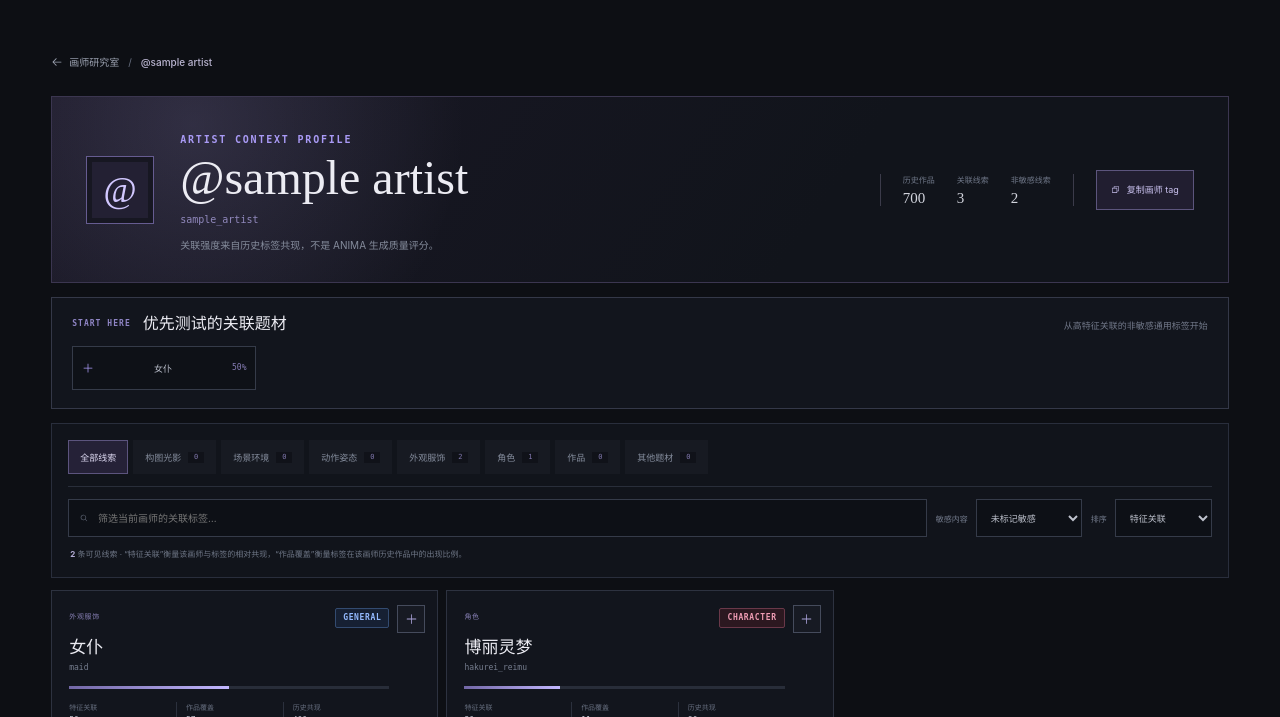
Test case: filters an artist's context clues and adds them to the scene basket
The image size is (1280, 717).
Expected: the heading "@sample artist" is shown, [180,151,468,204]
Expected: the heading "女仆" is shown, [69,638,103,657]
Select "仅显示敏感" in the dropdown named "关联标签敏感内容" at (1029, 518), box [976,499,1082,537]
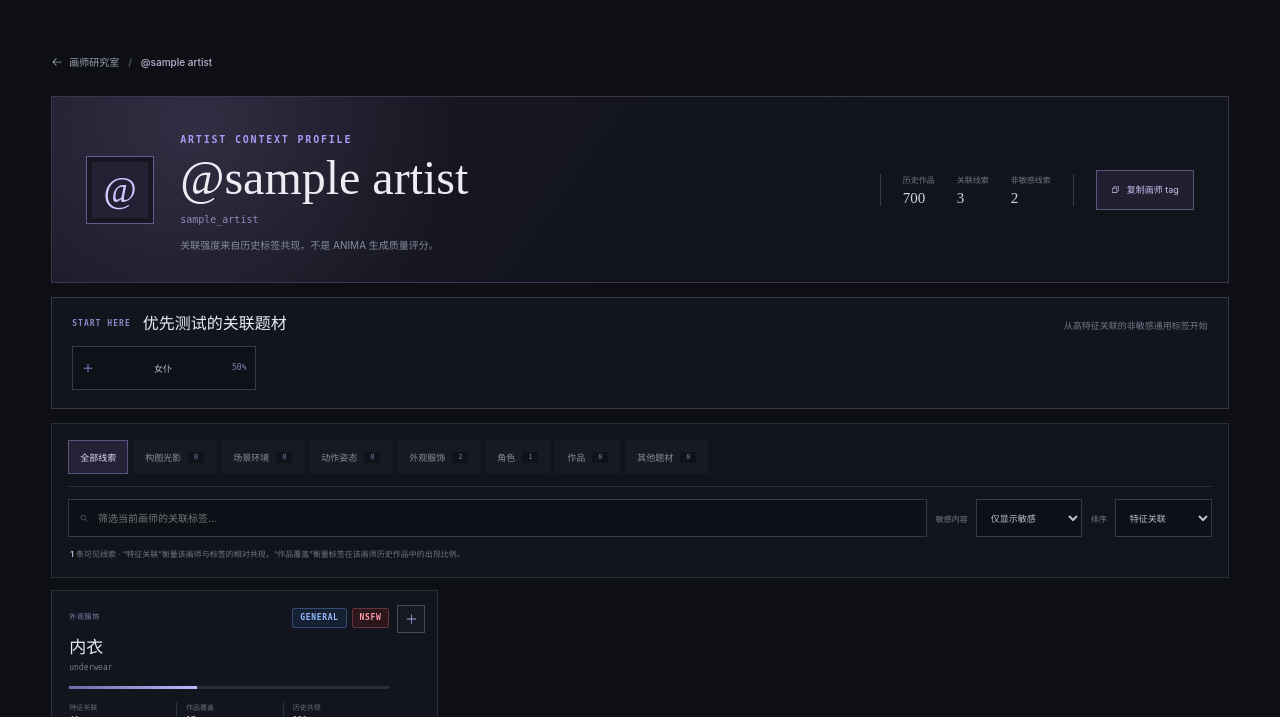
Now the heading "内衣" is shown, box [69,638,103,657]
Click the button named "选择 内衣" at (411, 619), box [397,605,425,633]
(page scrolled)
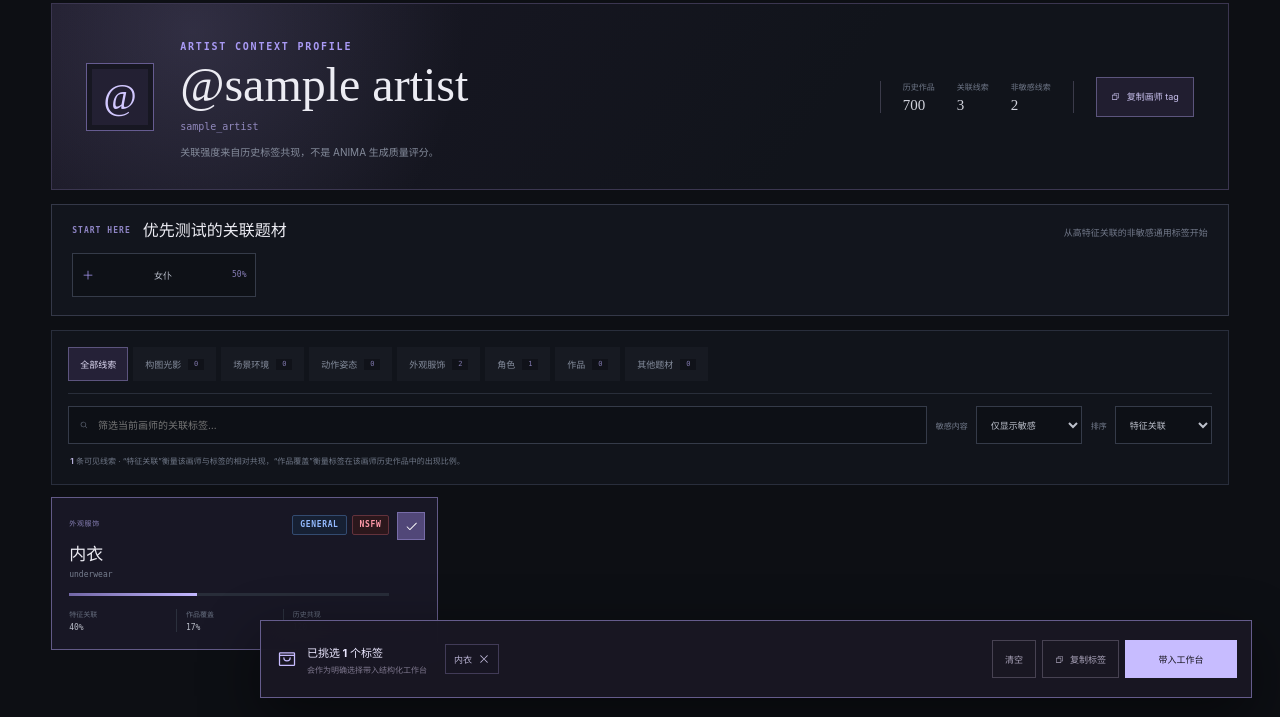
Now the text "已挑选 1 个标签" is shown, box [307,646,383,660]
